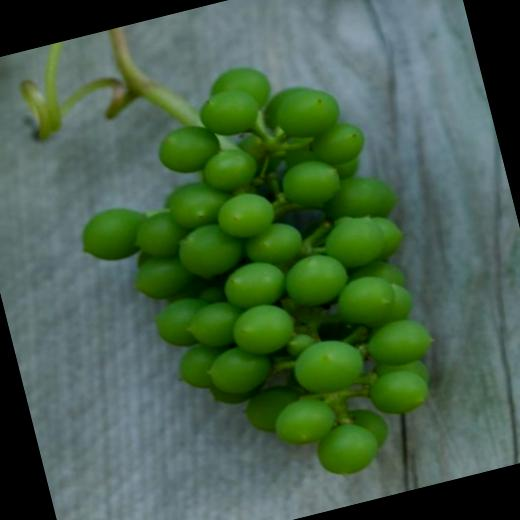Orange: (48, 36, 462, 520)
